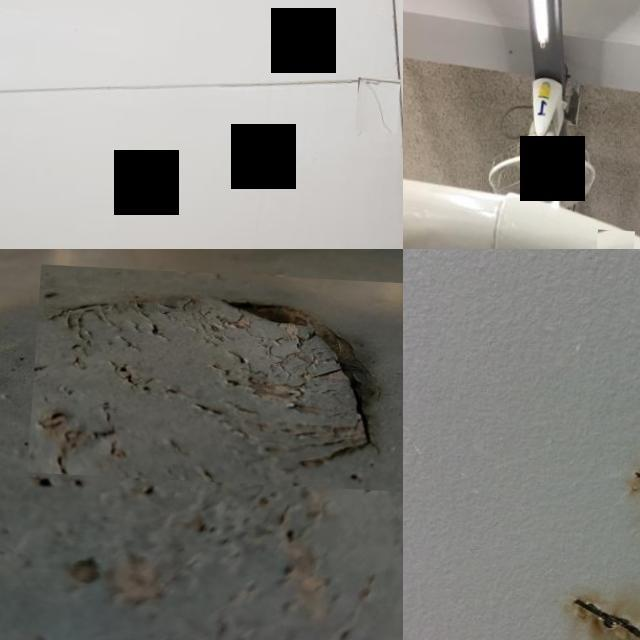Crack: (34, 262, 403, 485), (570, 593, 640, 633), (358, 71, 403, 127), (597, 226, 638, 249)
